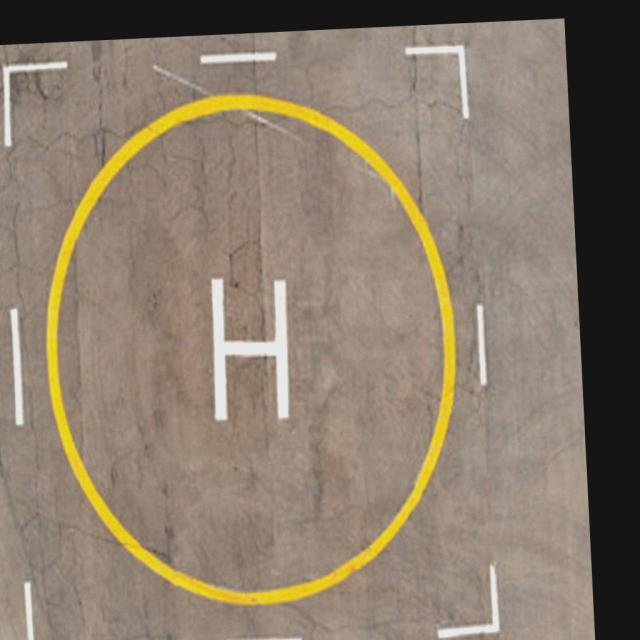helipad: (40, 87, 460, 609)
